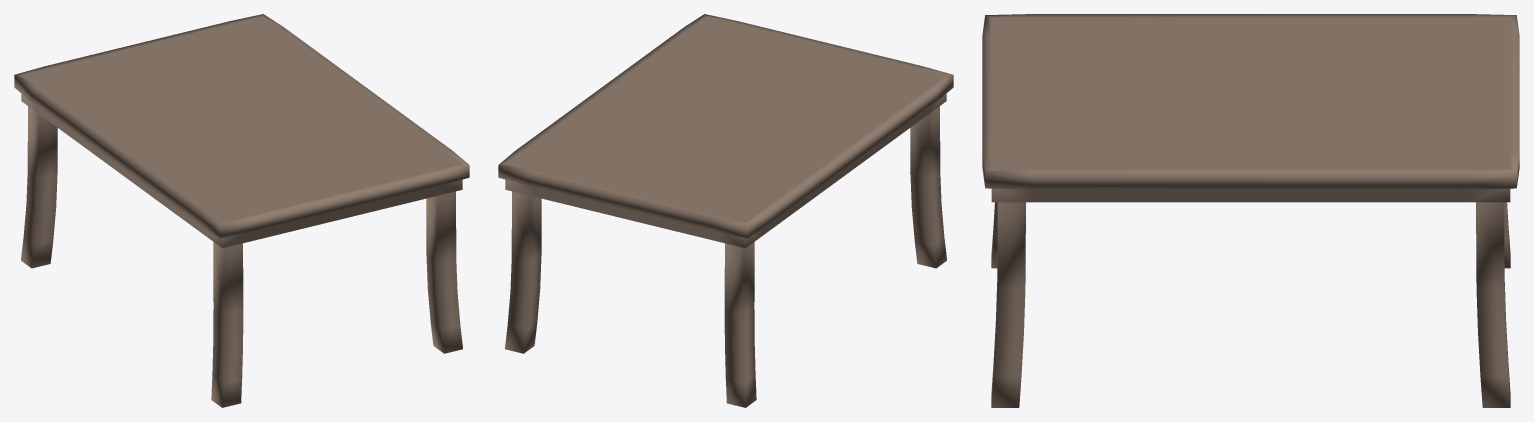
The model's file is SM_Table.fbx.
3 renders of one model, left to right at view 1: azimuth 30°, elevation 25°; view 2: azimuth 150°, elevation 25°; view 3: azimuth 270°, elevation 25°, orthographic. The views are drawn at different scales.
Parts seen in each view (by area): view 1: Table; view 2: Table; view 3: Table.
Boxes of the visible parts, left/top/right/bottom form: Table: left=14, top=14, right=469, bottom=407; Table: left=498, top=14, right=953, bottom=407; Table: left=982, top=14, right=1519, bottom=407.
Bounding box in the file's own units: 140 × 97.87 × 200.
